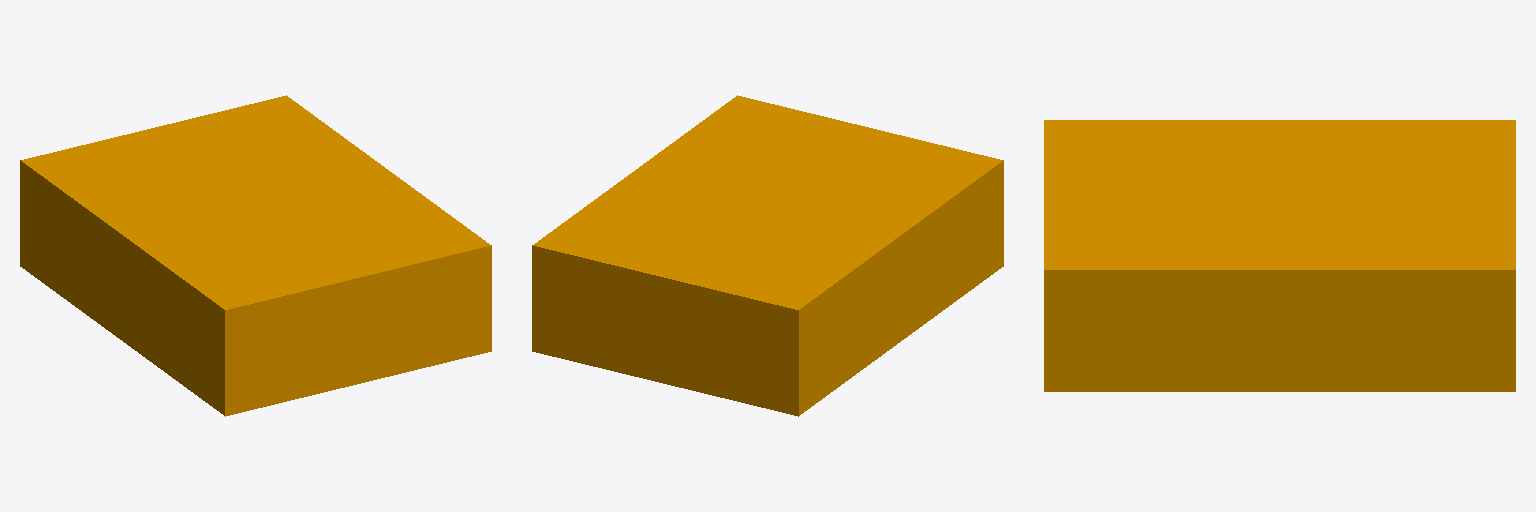
robot.urdf — myfirst:
<?xml version="1.0"?>
 <robot name="myfirst">
   <material name="Lavender">
     <color rgba="0.90196078 0.90196078 0.98039216 1"/>
   </material>
   <link name="cheat_cracker_robot">
     <visual>
       <geometry>
         <box size="0.16 0.21343700408935547 0.061"/>
       </geometry>
       <material name="green"/>
     </visual>
     <collision>
       <geometry>
         <box size="0.16 0.21343700408935547 0.061"/>
       </geometry>
     </collision>
     <inertial>
       <mass value="1"/>
       <inertia ixx="1.0" ixy="0.0" ixz="0.0" iyy="1.0" iyz="0.0" izz="1.0"/>
     </inertial>
   </link>
 </robot>

--- Facts derived from the render (not from the file) ---
3 views of the same robot in one strip: view 1: azimuth 30°, elevation 25°; view 2: azimuth 150°, elevation 25°; view 3: azimuth 270°, elevation 25° (orthographic).
Model myfirst with 1 links and 0 joints (none), rooted at cheat_cracker_robot, posed every joint at zero.
Links seen in each view (by area): view 1: cheat_cracker_robot; view 2: cheat_cracker_robot; view 3: cheat_cracker_robot.
Boxes of the visible links, <box> form: cheat_cracker_robot: <box>20,95,491,416</box>; cheat_cracker_robot: <box>532,95,1003,416</box>; cheat_cracker_robot: <box>1044,120,1515,391</box>.
Size in the robot's own frame: 0.16 by 0.2134 by 0.061 metres.
Geometry: primitives only (box / cylinder / sphere), no mesh files.
